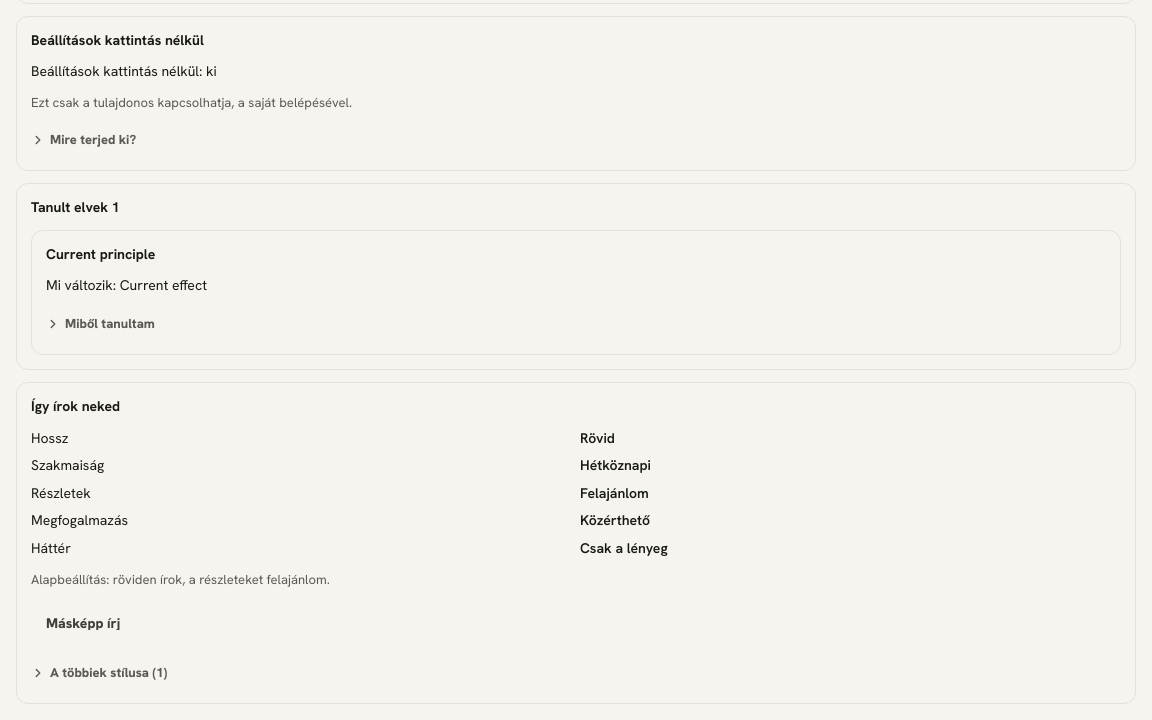
it: Operator knowledge view › shows shared data to an admin without write controls
(page scrolled)
Click the heading "A többiek stílusa (1)": [99, 672] box [31,664,167,681]
(page scrolled)
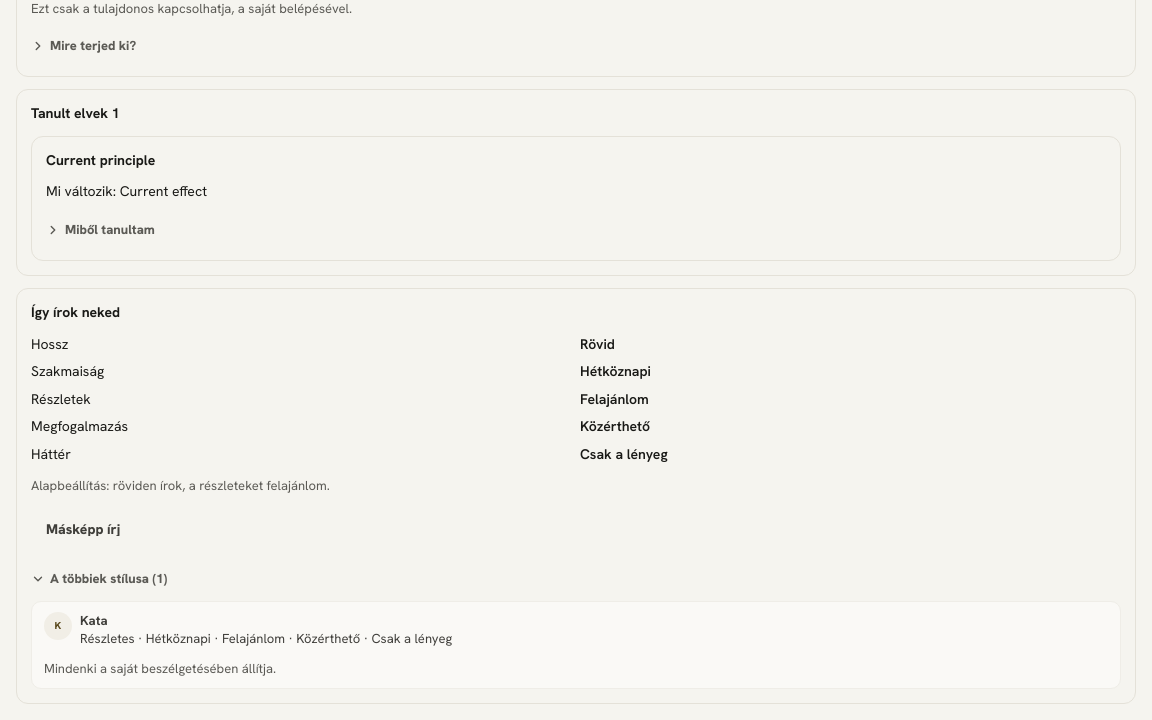
Check: the text "Részletes ·" is shown, box [80,630,452,647]
